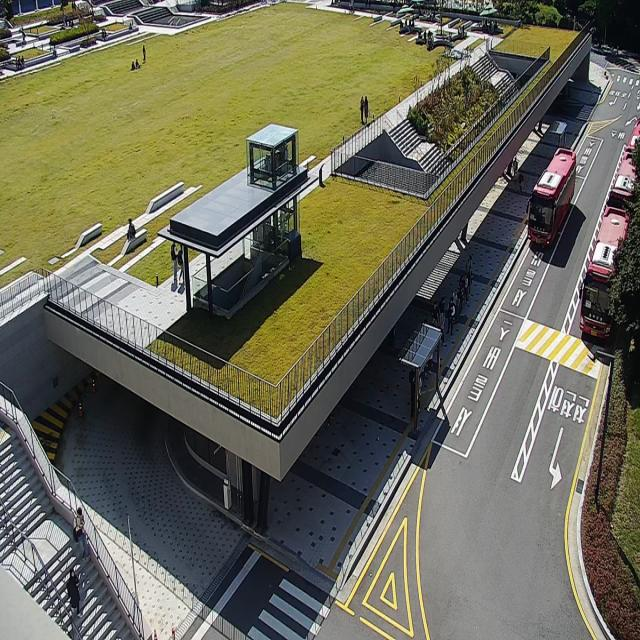queue: (415, 253, 474, 430)
